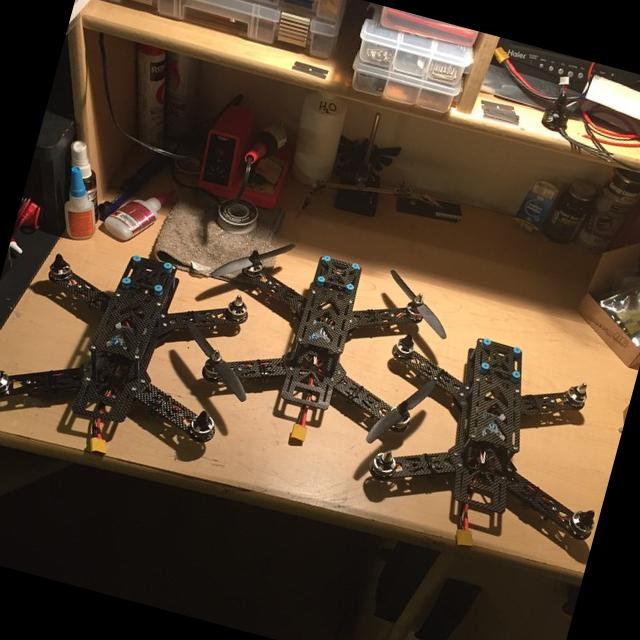drone: (172, 217, 467, 456), (351, 322, 634, 558), (0, 227, 261, 465)
